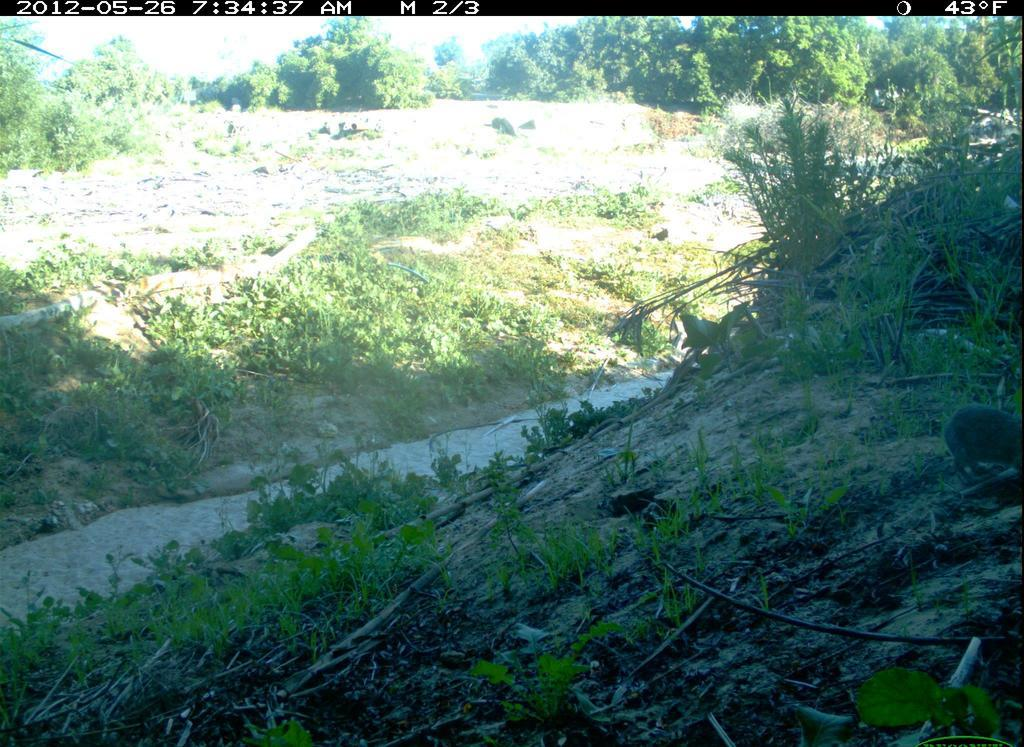rabbit: (939, 391, 1023, 496)
